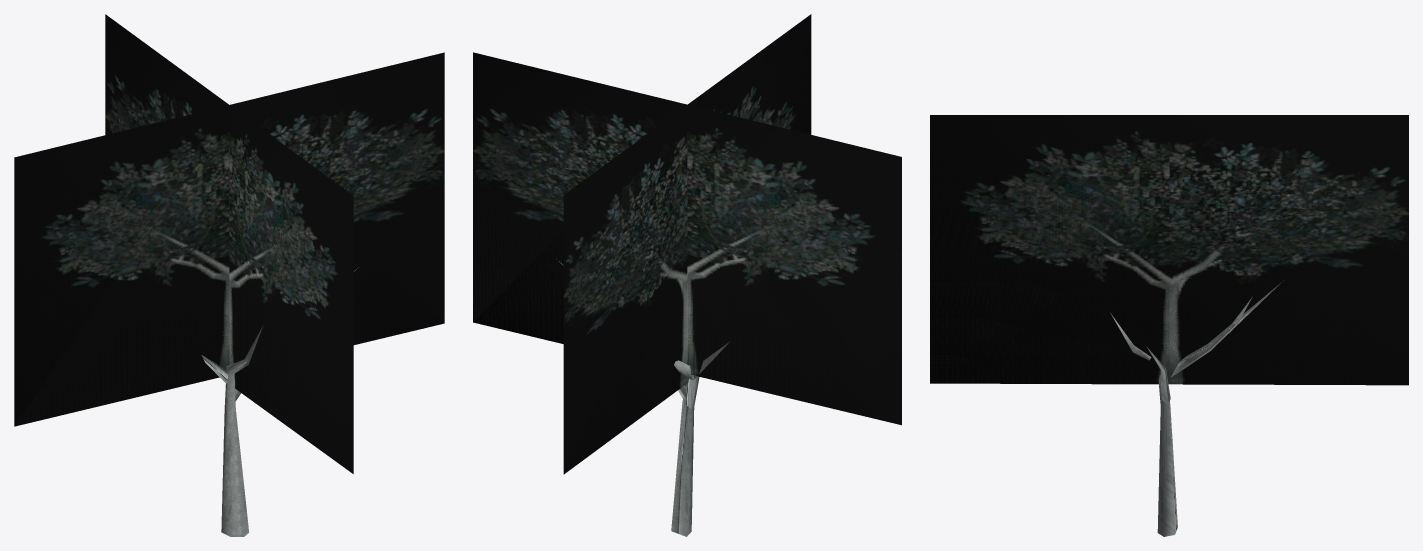
The model's file is decd_tallbirch_l2.fbx.
3 views of the same model, side by side, from view 1: azimuth 30°, elevation 25°; view 2: azimuth 150°, elevation 25°; view 3: azimuth 270°, elevation 25° (orthographic). The views are drawn at different scales.
Parts seen in each view (by area): view 1: mesh_node; view 2: mesh_node; view 3: mesh_node.
Boxes of the visible parts, x1,y1,x2,y2 form: mesh_node: [14, 14, 444, 536]; mesh_node: [473, 14, 901, 536]; mesh_node: [930, 115, 1408, 536].
Bounding box in the file's own units: 63 × 60.1 × 63.
